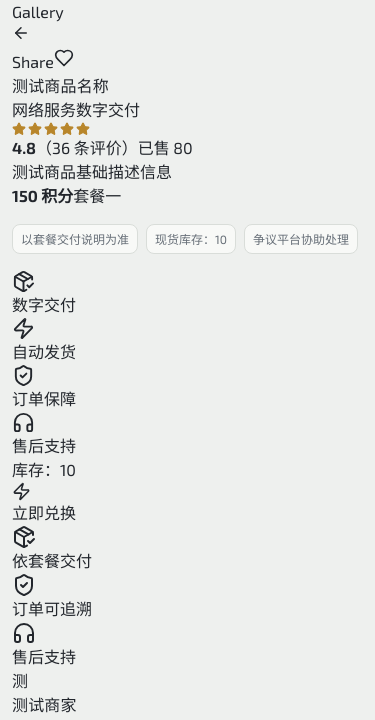
Scenario: ProductDetailMobile - Horizontal Tab Switching & Touch Gestures › switches to reviews tab when rating summary button is clicked
Click the button with test id "rating-summary": (102, 141) [12,122,193,160]
(page scrolled)
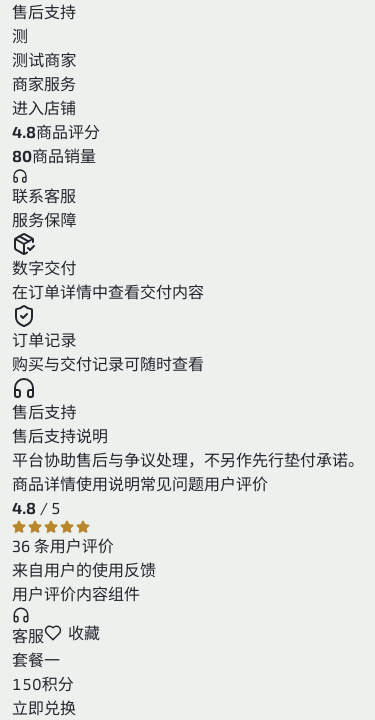
Expected: the panel "用户评价" is shown, [12,498,156,603]
Expected: the text "用户评价内容组件" is shown, [12,584,140,603]
